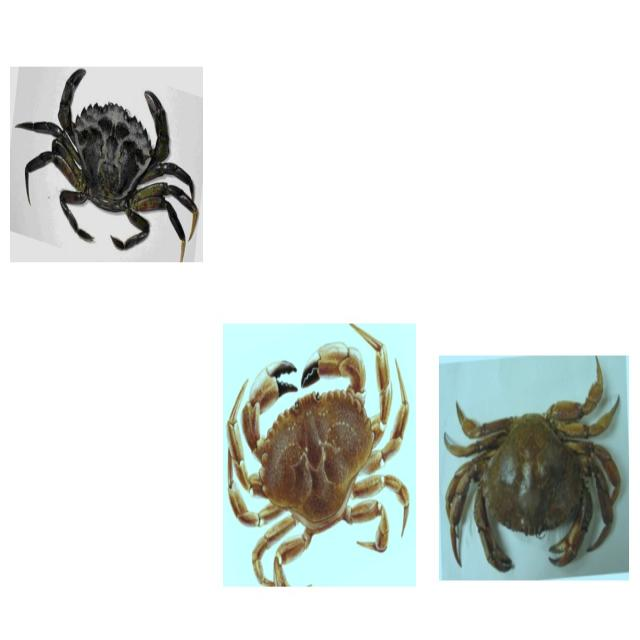egc: (8, 67, 201, 266)
jonah_crab: (223, 324, 413, 592)
rock_crab: (438, 362, 627, 569)
